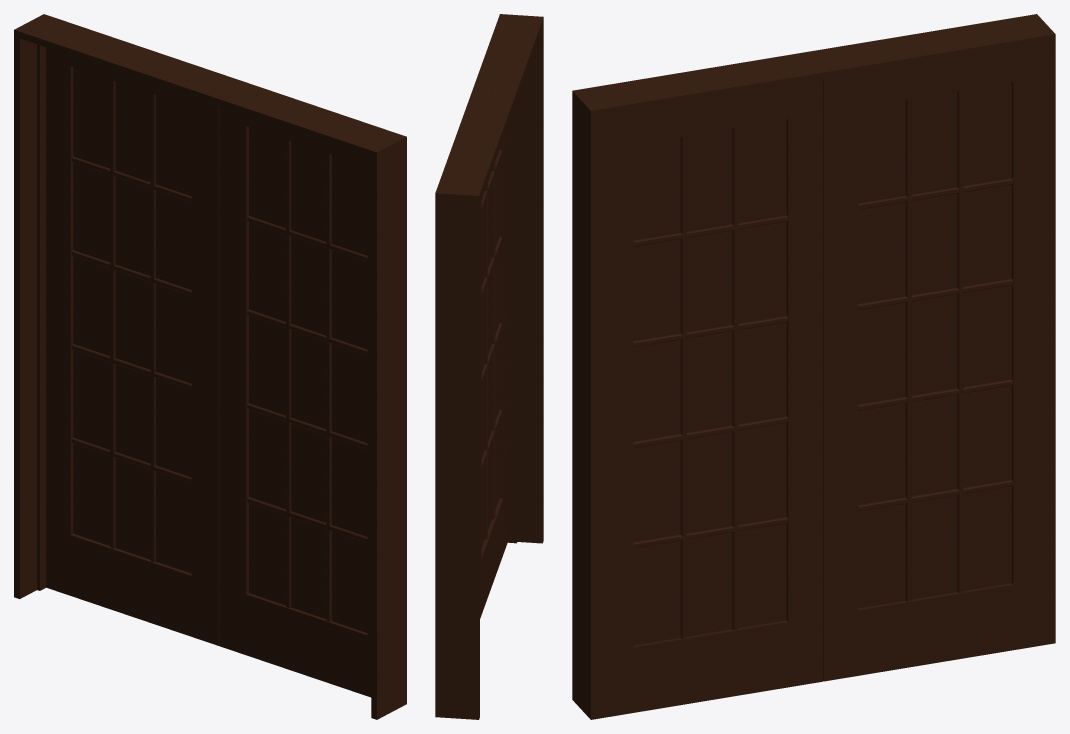
Rendered from Double_doors_01.fbx.
The picture shows the model from 3 angles, left to right: view 1: azimuth 30°, elevation 25°; view 2: azimuth 150°, elevation 25°; view 3: azimuth 270°, elevation 25°; orthographic projection. The views are drawn at different scales.
Visible parts, largest first — view 1: Door-Interior-Double-Full_Glass-Wood_1552_x_84__2__1304678_; view 2: Door-Interior-Double-Full_Glass-Wood_1552_x_84__2__1304678_; view 3: Door-Interior-Double-Full_Glass-Wood_1552_x_84__2__1304678_.
Boxes of the visible parts, box(x1,y1,x2,y2) form: Door-Interior-Double-Full_Glass-Wood_1552_x_84__2__1304678_: box(14, 14, 406, 719); Door-Interior-Double-Full_Glass-Wood_1552_x_84__2__1304678_: box(435, 14, 543, 719); Door-Interior-Double-Full_Glass-Wood_1552_x_84__2__1304678_: box(572, 14, 1055, 719).
Bounding box in the file's own units: 73.68 × 155 × 216.
Materials: 1 (1 with a texture image).
